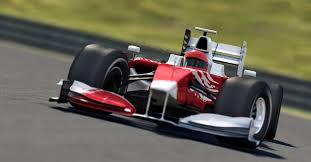f1_car: (42, 20, 289, 157)
